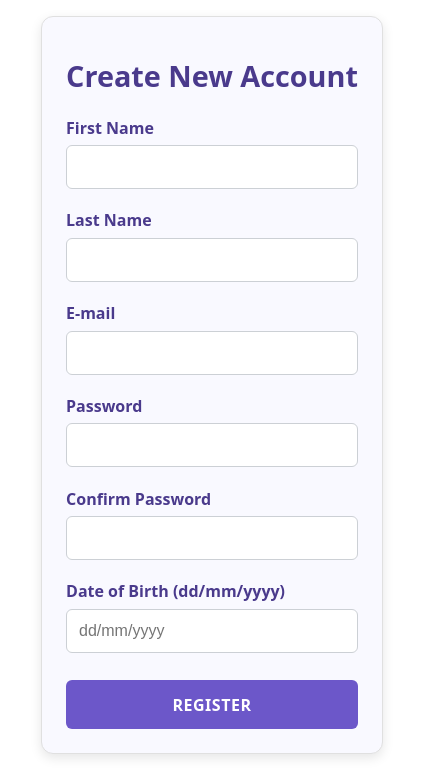
Test case: Form Tests › shows success message
This screenshot has width=425, height=776.
Type "Ali" into the field labelled "First Name" at (212,167), box [66, 145, 358, 189]
Type "Veli" into the field labelled "Last Name" at (212,260), box [66, 238, 358, 282]
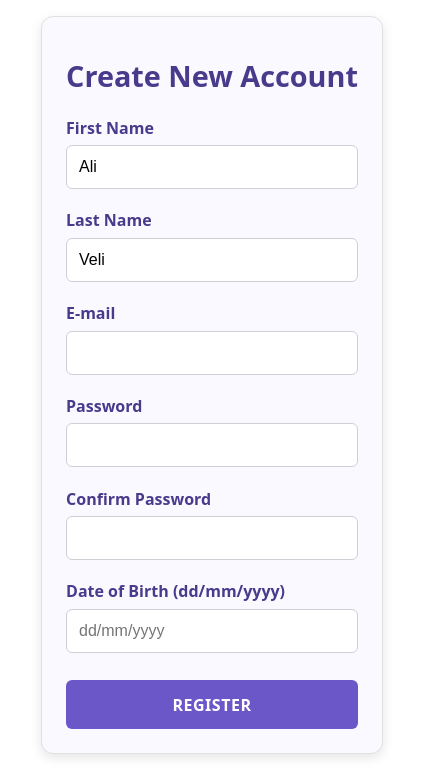
Type "ali@example.com" into the field labelled "E-mail" at (212,353), box [66, 331, 358, 375]
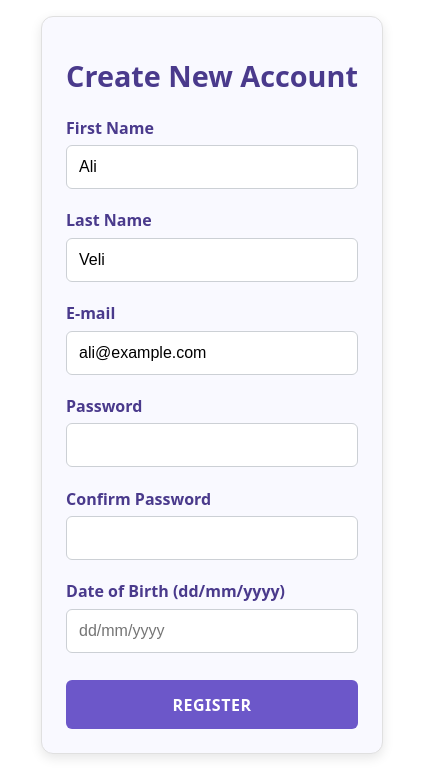
Type "password123" into the password field labelled "Password" at (212,446), box [66, 424, 358, 468]
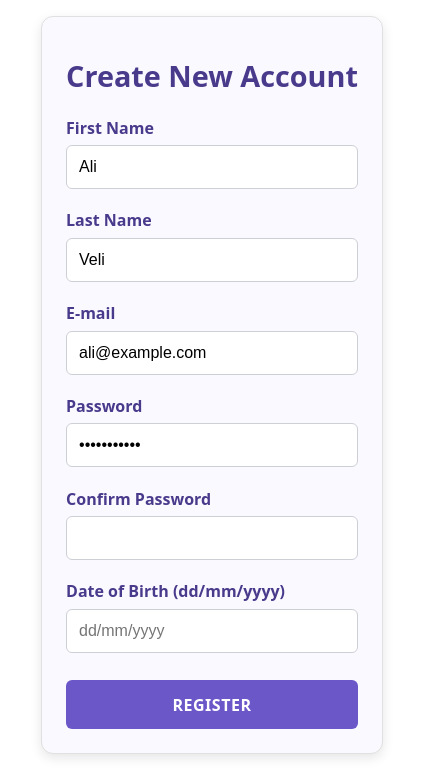
Type "password123" into the password field labelled "Confirm Password" at (212,538), box [66, 516, 358, 560]
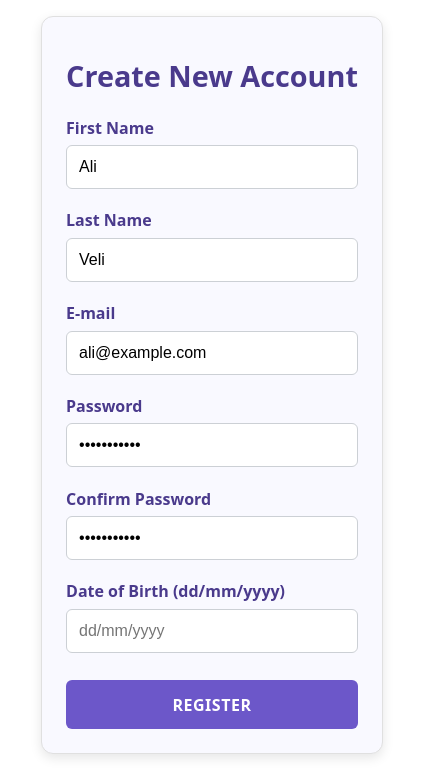
Type "10/10/1990" into the field labelled "Date of Birth (dd/mm/yyyy)" at (212,631), box [66, 609, 358, 653]
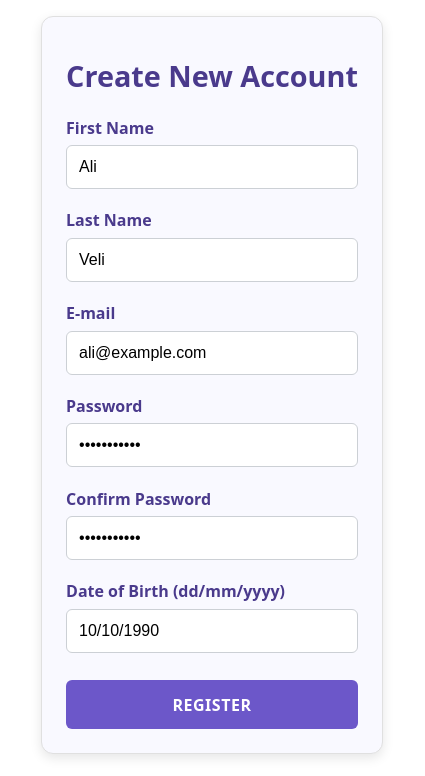
Click the button "REGISTER" at (212,705), box [66, 680, 358, 729]
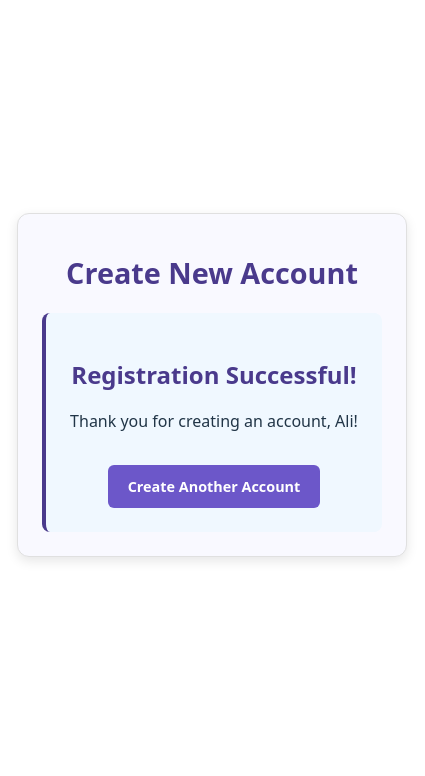
Result: the heading "Registration Successful!" is shown at [70, 357, 358, 393]
